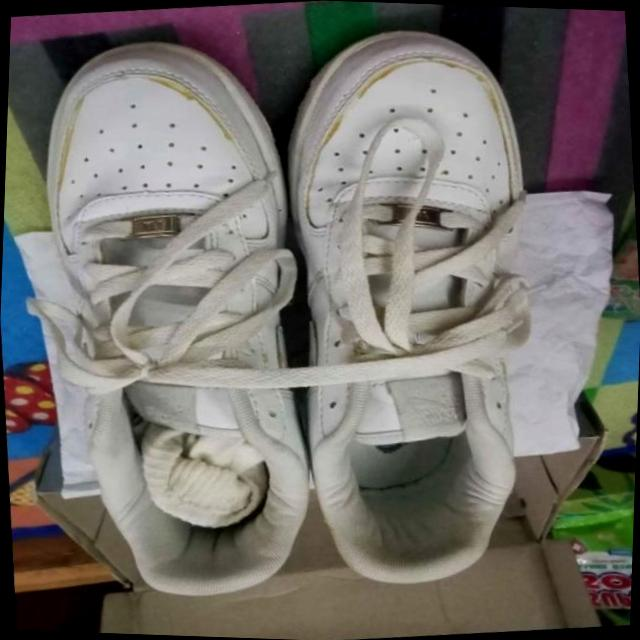nike_fake_airforce: (12, 18, 342, 628), (257, 14, 564, 598)
